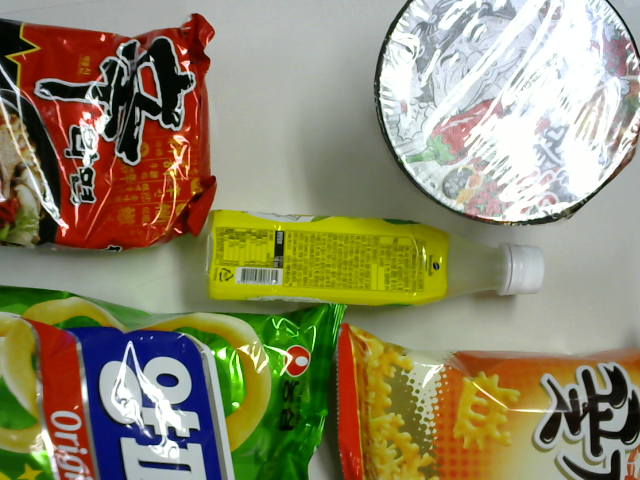Crabrang: (318, 325, 640, 477)
HeJangsock: (355, 1, 640, 223)
Oninon_Ring: (4, 288, 356, 480)
Sinramen: (1, 32, 209, 244)
Sunkist_Lemonaid_Pet: (197, 215, 548, 306)
